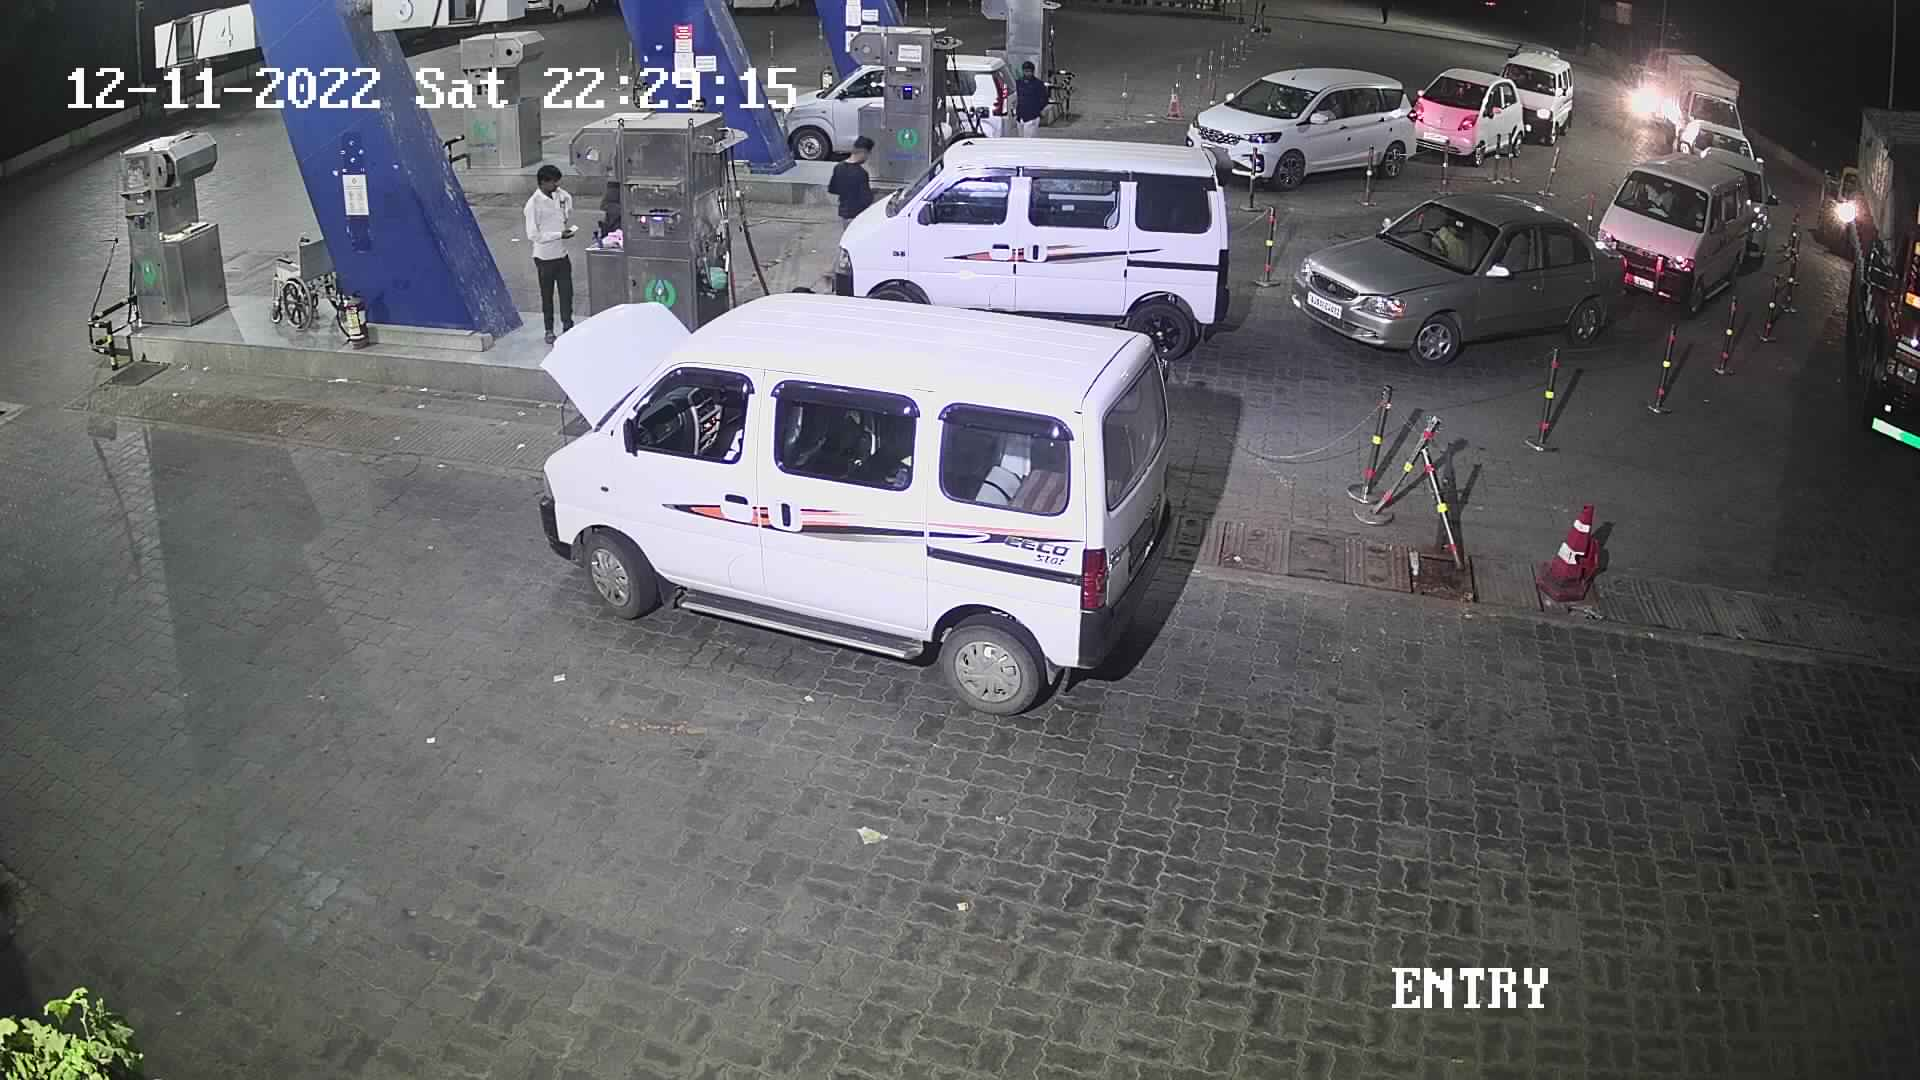Car: (516, 280, 1185, 725), (824, 128, 1236, 371), (1284, 182, 1646, 367), (1174, 62, 1423, 198), (1586, 153, 1762, 320), (762, 51, 895, 170), (1403, 61, 1531, 171), (1693, 144, 1785, 269), (1489, 41, 1584, 149), (1648, 47, 1745, 149), (1813, 142, 1876, 255), (1617, 38, 1689, 133), (1669, 116, 1772, 175)
HMV: (1829, 84, 1917, 480)
